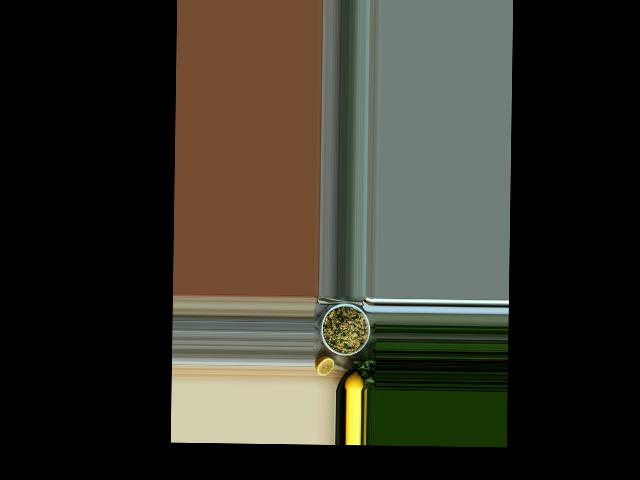lemon: (346, 372, 362, 390)
